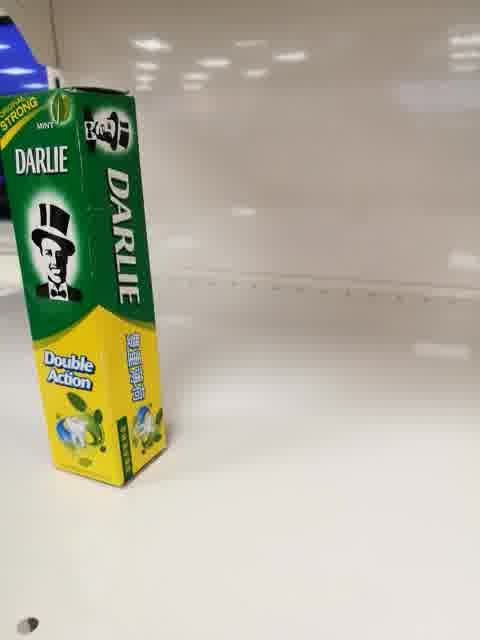toothpaste: (1, 85, 168, 490)
